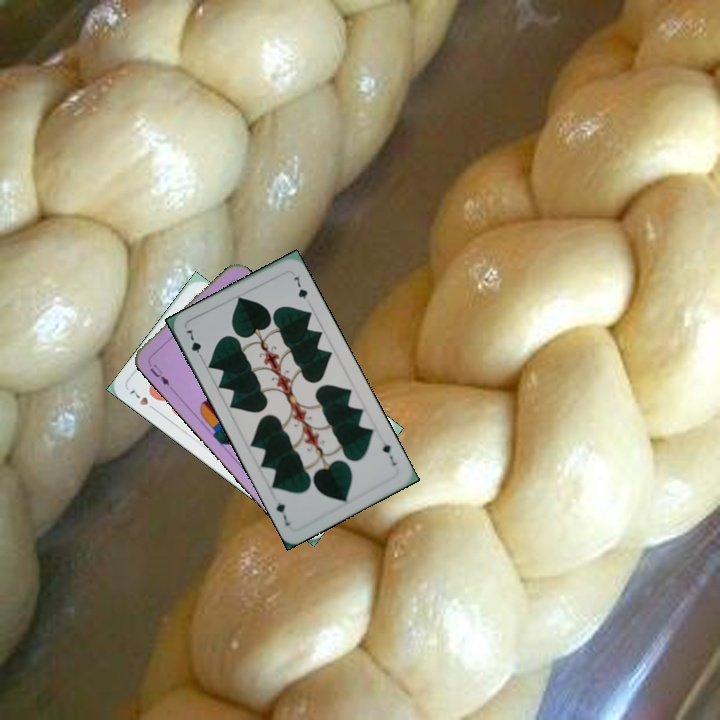EU: (144, 357, 174, 391)
G7: (182, 326, 206, 363), (378, 435, 399, 468)
H7: (125, 386, 160, 414)
